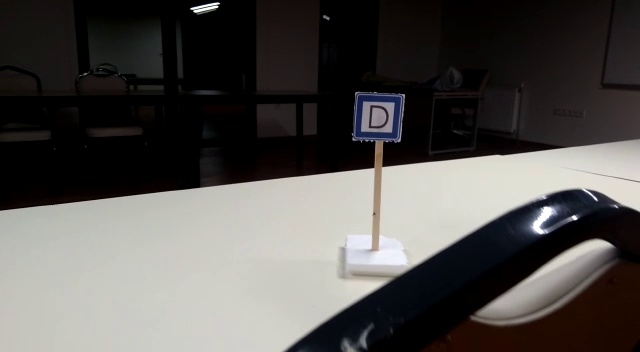durak: (351, 91, 405, 140)
